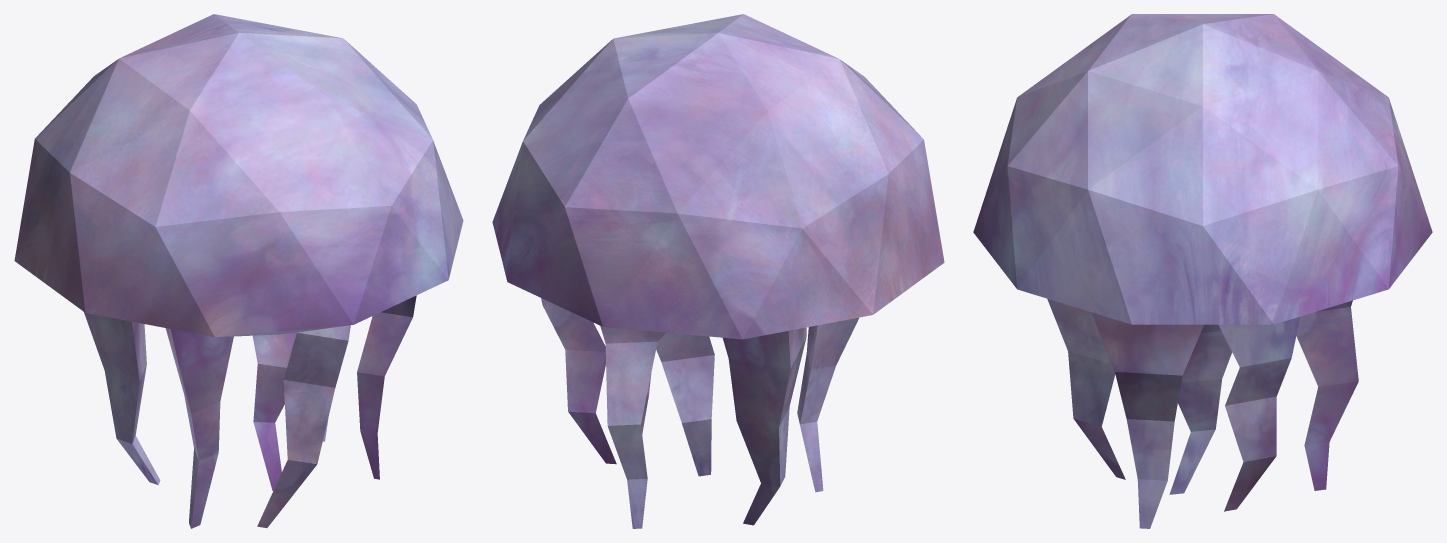
File: manet_final.obj
3 views of the same model, side by side, from view 1: azimuth 30°, elevation 25°; view 2: azimuth 150°, elevation 25°; view 3: azimuth 270°, elevation 25° (orthographic).
Visible parts, largest first — view 1: Icosphere_Icosphere.001; view 2: Icosphere_Icosphere.001; view 3: Icosphere_Icosphere.001.
Boxes of the visible parts, box(x1,y1,x2,y2) form: Icosphere_Icosphere.001: box(14, 14, 463, 528); Icosphere_Icosphere.001: box(492, 14, 944, 528); Icosphere_Icosphere.001: box(973, 14, 1432, 528).
Size of the model in its own units: 2.03 by 2.37 by 2.13.
Materials: 1 (1 with a texture image).
